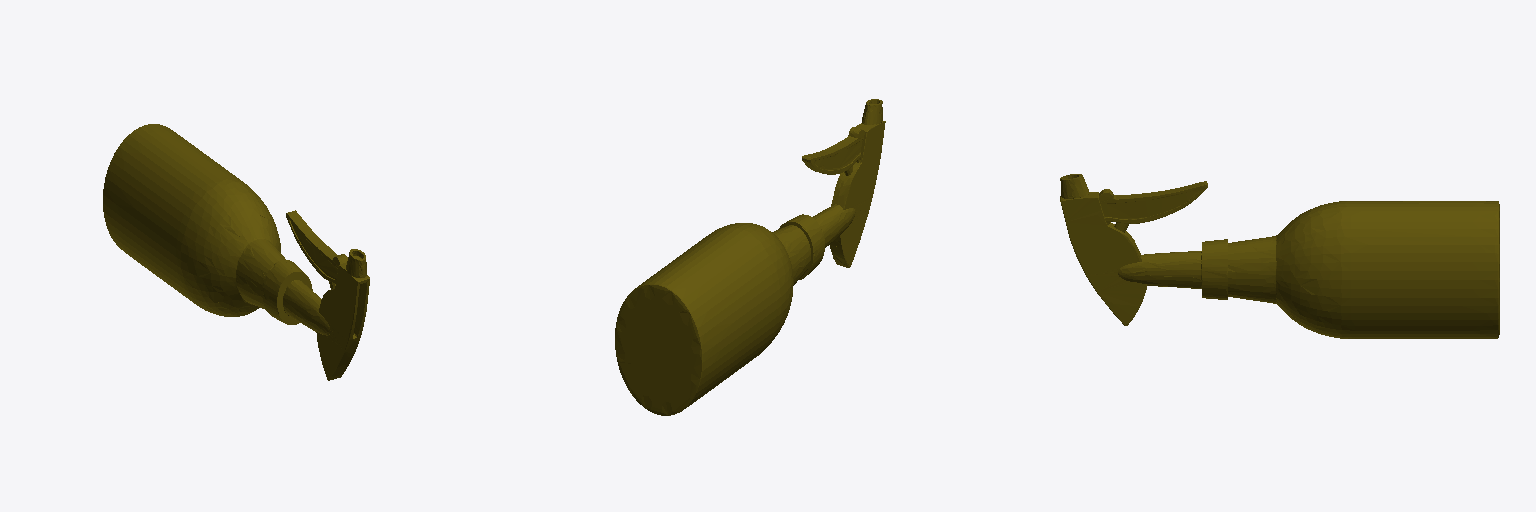
File: tinker.obj
3 renders of one model, left to right at view 1: azimuth 30°, elevation 25°; view 2: azimuth 150°, elevation 25°; view 3: azimuth 270°, elevation 25°, orthographic.
Visible parts, largest first — view 1: obj_0.004; view 2: obj_0.004; view 3: obj_0.004.
Part boxes in pixels (x1,y1,x2,y2): obj_0.004: (103,124,369,380); obj_0.004: (615,99,885,415); obj_0.004: (1060,174,1499,338).
Bounding box in the file's own units: 3.5 × 6 × 15.